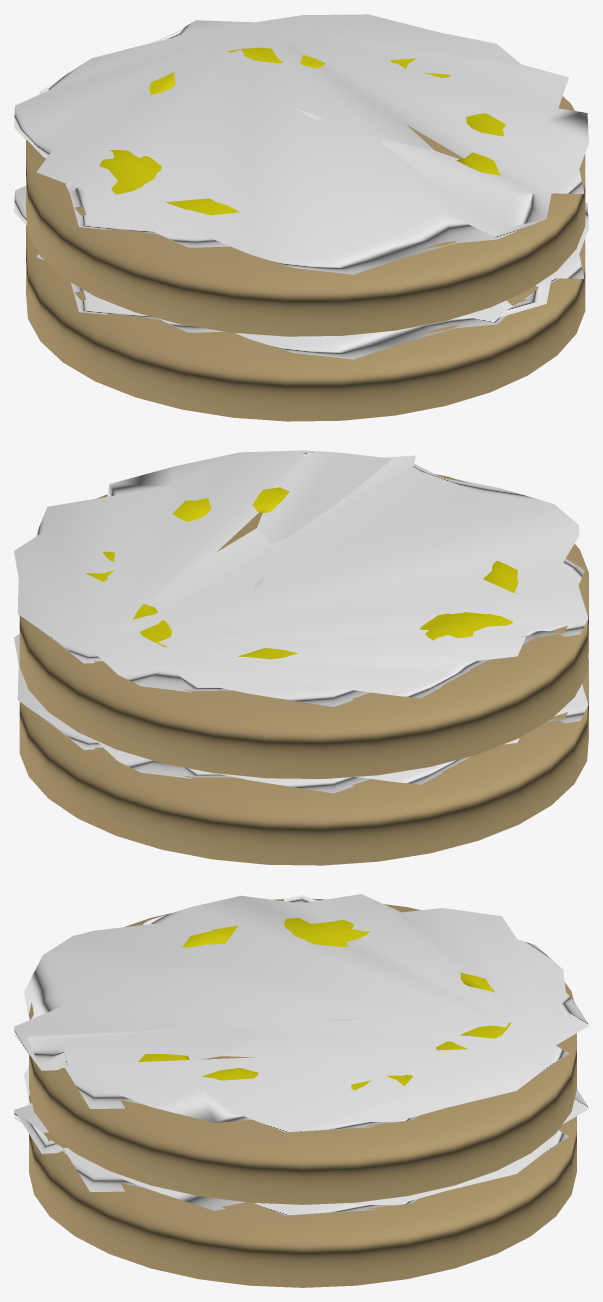
Rendered from finished_cake.fbx.
3 renders of one model, top to bottom at view 1: azimuth 30°, elevation 25°; view 2: azimuth 150°, elevation 25°; view 3: azimuth 270°, elevation 25°, orthographic. The views are drawn at different scales.
Parts seen in each view (by area): view 1: Cylinder; view 2: Cylinder; view 3: Cylinder.
Part boxes in pixels (x1,y1,x2,y2): Cylinder: [14, 14, 588, 421]; Cylinder: [14, 450, 588, 865]; Cylinder: [14, 894, 588, 1287].
Size of the model in its own units: 209 by 70.27 by 210.
